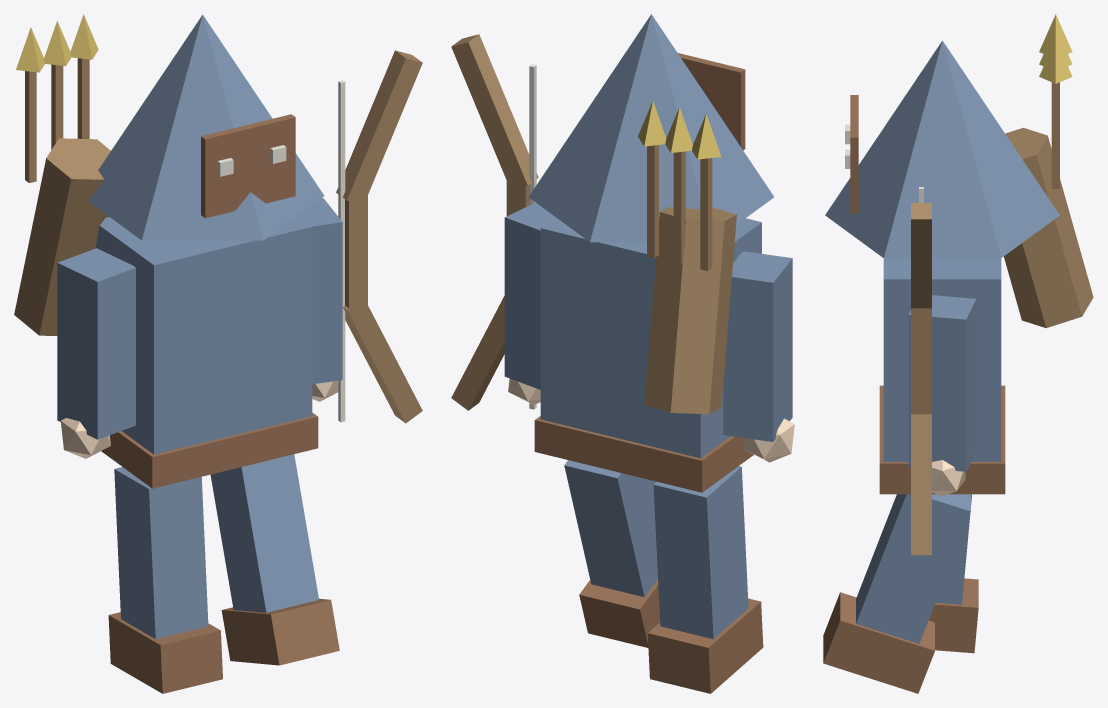
File: npcpose_archer_walk_02.glb
3 views of the same model, side by side, from view 1: azimuth 30°, elevation 25°; view 2: azimuth 150°, elevation 25°; view 3: azimuth 270°, elevation 25° (orthographic). The views are drawn at different scales.
Parts seen in each view (by area): view 1: npcpose; view 2: npcpose; view 3: npcpose.
Boxes of the visible parts, x1,y1,x2,y2 form: npcpose: (14,14,422,693); npcpose: (451,14,794,693); npcpose: (823,14,1093,693).
Bounding box in the file's own units: 0.9089 × 1.63 × 0.6438.
